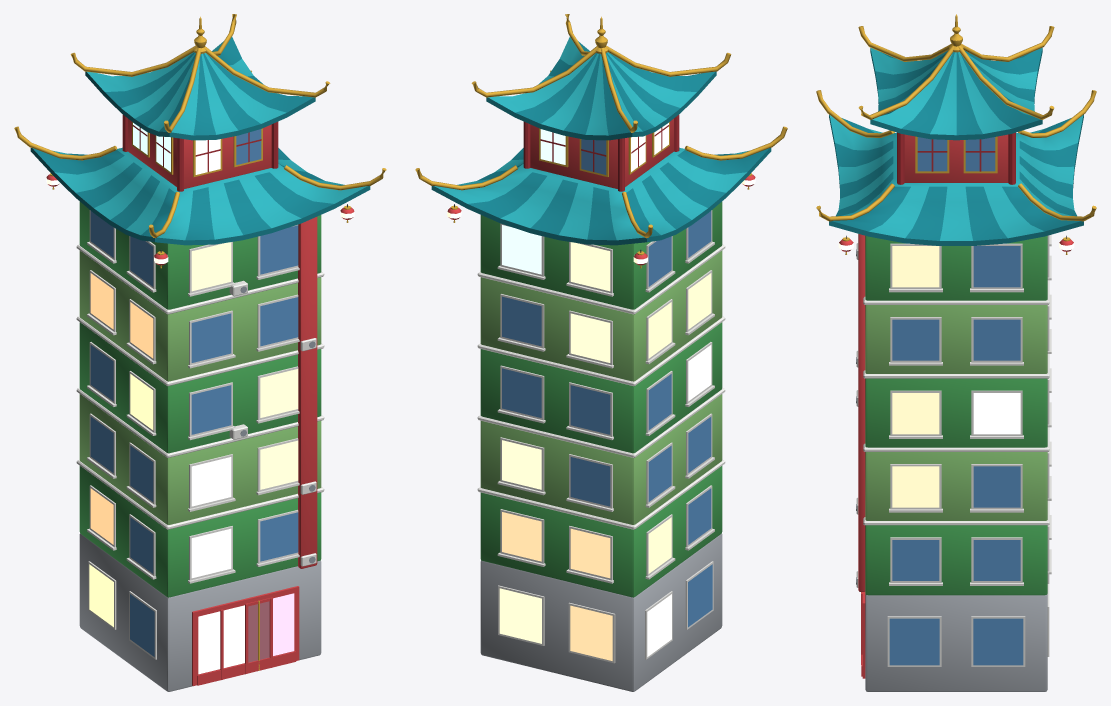
Rendered from predio_estreito_pagode_verde.glb.
3 views of the same model, side by side, from view 1: azimuth 30°, elevation 25°; view 2: azimuth 150°, elevation 25°; view 3: azimuth 270°, elevation 25° (orthographic). The views are drawn at different scales.
Parts seen in each view (by area): view 1: predio_estreito_pagode_verde; view 2: predio_estreito_pagode_verde; view 3: predio_estreito_pagode_verde.
Boxes of the visible parts, x1=… form: predio_estreito_pagode_verde: x1=14, y1=14, x2=386, y2=691; predio_estreito_pagode_verde: x1=415, y1=14, x2=787, y2=691; predio_estreito_pagode_verde: x1=816, y1=14, x2=1096, y2=691.
Bounding box in the file's own units: 11.06 × 27.9 × 11.08.
8 materials, 1 textured.
